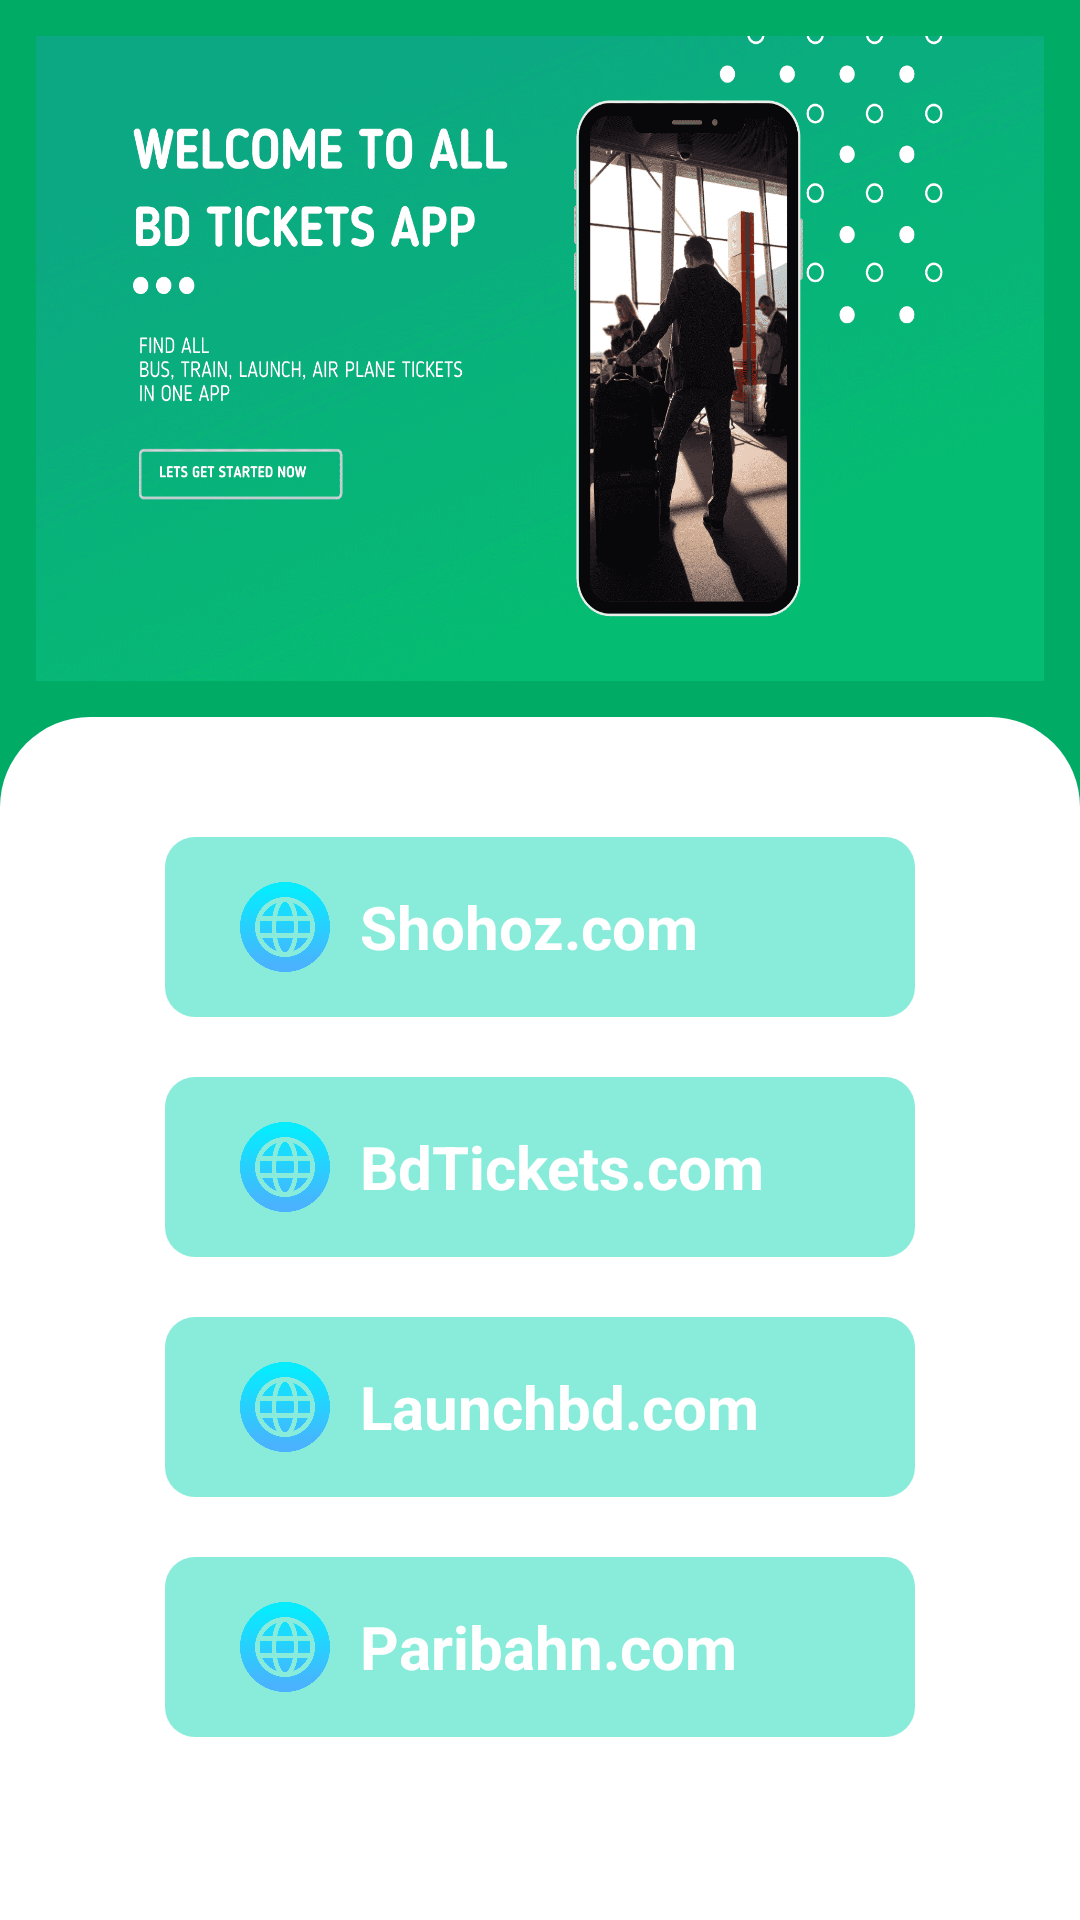

Named icons in this screenshot (1080px x 1920px) and their bounding boxes, (x1=x1, y1=y1, x2=x2, y2=y2):
webicon: (x1=240, y1=882, x2=330, y2=972), (x1=240, y1=1122, x2=330, y2=1212), (x1=240, y1=1362, x2=330, y2=1452), (x1=240, y1=1602, x2=330, y2=1692)
